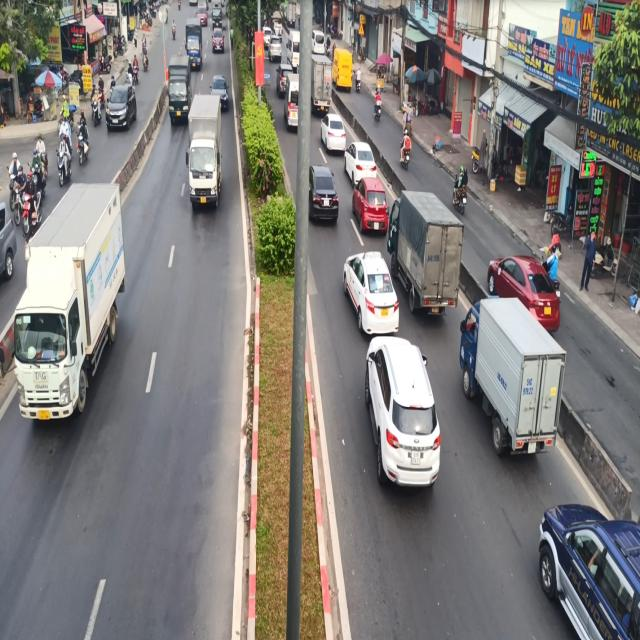car: (361, 334, 441, 501), (342, 248, 401, 336), (352, 181, 391, 236)
truck: (12, 175, 144, 441), (456, 301, 567, 474), (188, 91, 225, 220), (165, 57, 191, 127)
